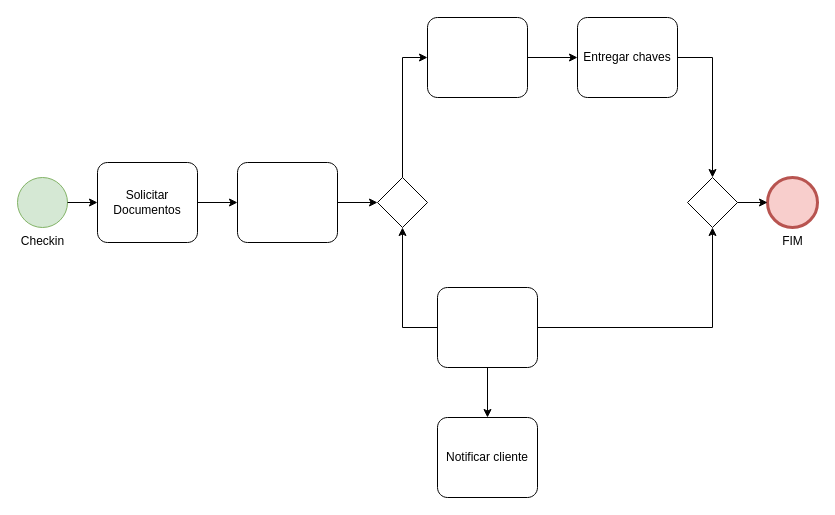
The diagram is 835 pixels wide and 515 high, and some of its shapes have lost their labels. The box of each missing label's shape, as (x1, y1, x2, y2) in pixels:
Não existe reserva: (436, 286, 538, 368)
Reserva confirmada: (426, 16, 528, 98)
Verificar reserva: (236, 162, 338, 242)
